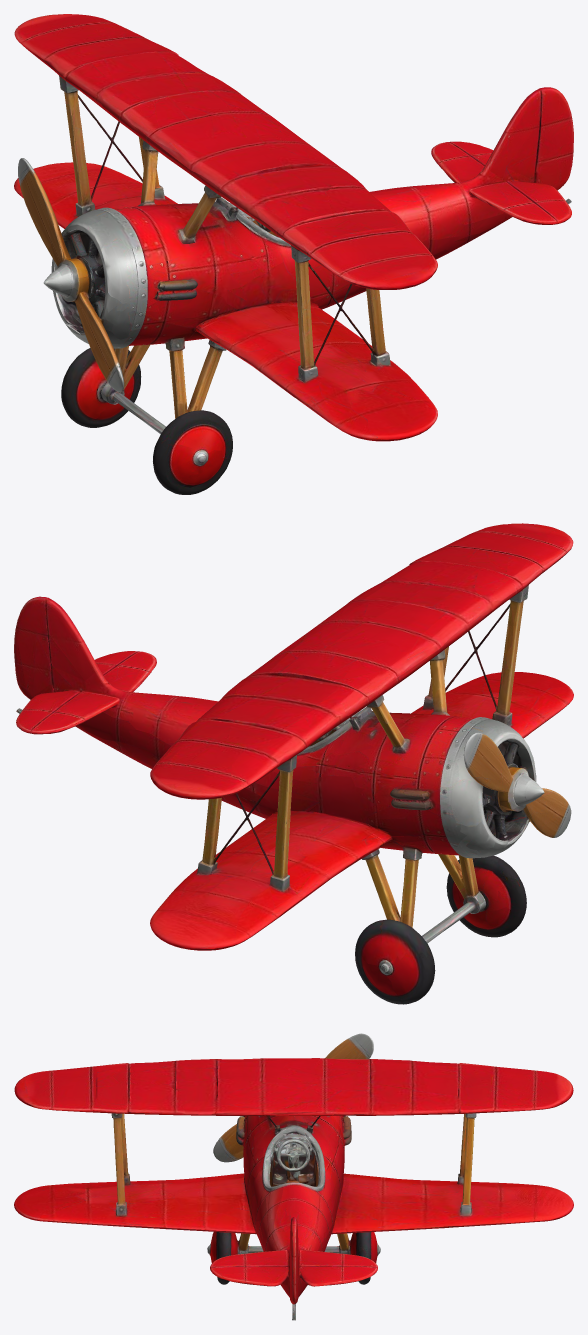
The model's file is biplane.glb.
3 views of the same model, one above another, from view 1: azimuth 30°, elevation 25°; view 2: azimuth 150°, elevation 25°; view 3: azimuth 270°, elevation 25° (orthographic). The views are drawn at different scales.
Bounding box in the file's own units: 1.58 × 0.8845 × 1.9.
Materials: 1 (1 with a texture image).
